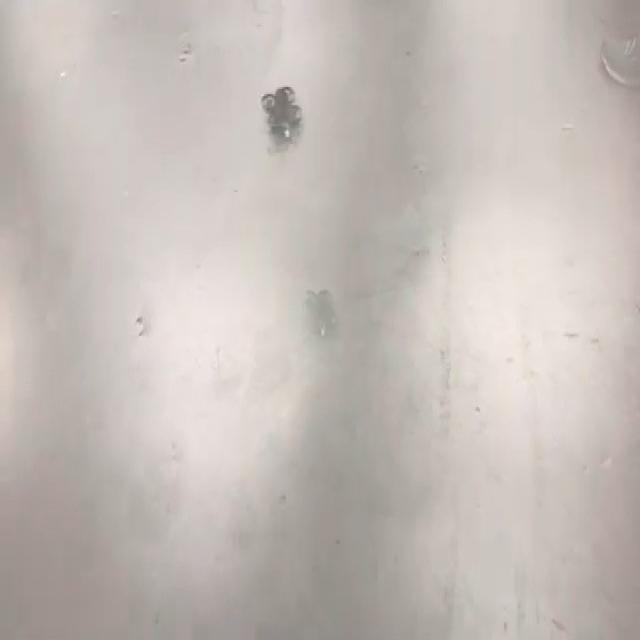drone: (254, 58, 310, 150)
